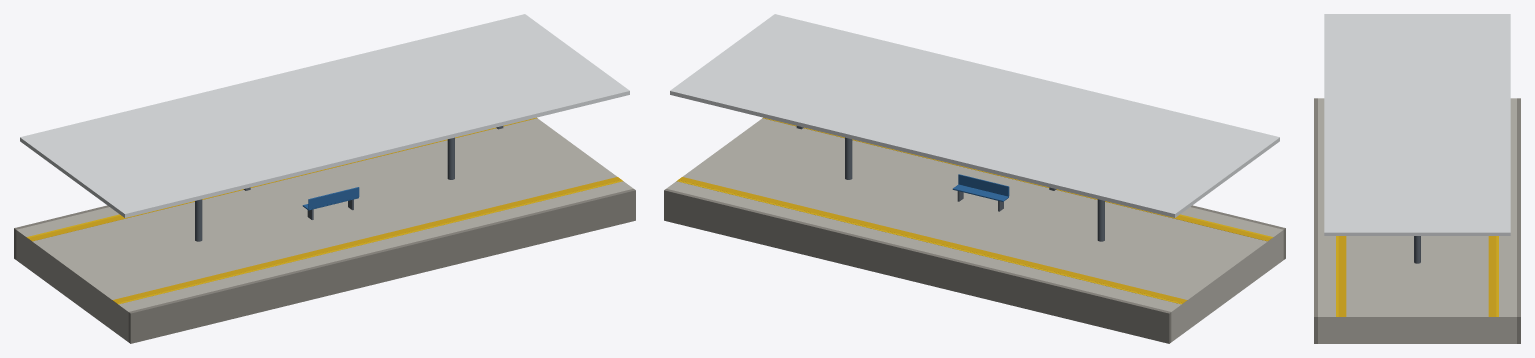
The model's file is platform_island.glb.
3 renders of one model, left to right at view 1: azimuth 30°, elevation 25°; view 2: azimuth 150°, elevation 25°; view 3: azimuth 270°, elevation 25°, orthographic. The views are drawn at different scales.
Parts seen in each view (by area): view 1: PlatformIsland; view 2: PlatformIsland; view 3: PlatformIsland.
Part boxes in pixels (x1,y1,x2,y2): PlatformIsland: (14, 14, 635, 343); PlatformIsland: (664, 14, 1285, 343); PlatformIsland: (1314, 14, 1520, 343).
Size of the model in its own units: 20 by 4.75 by 8.
